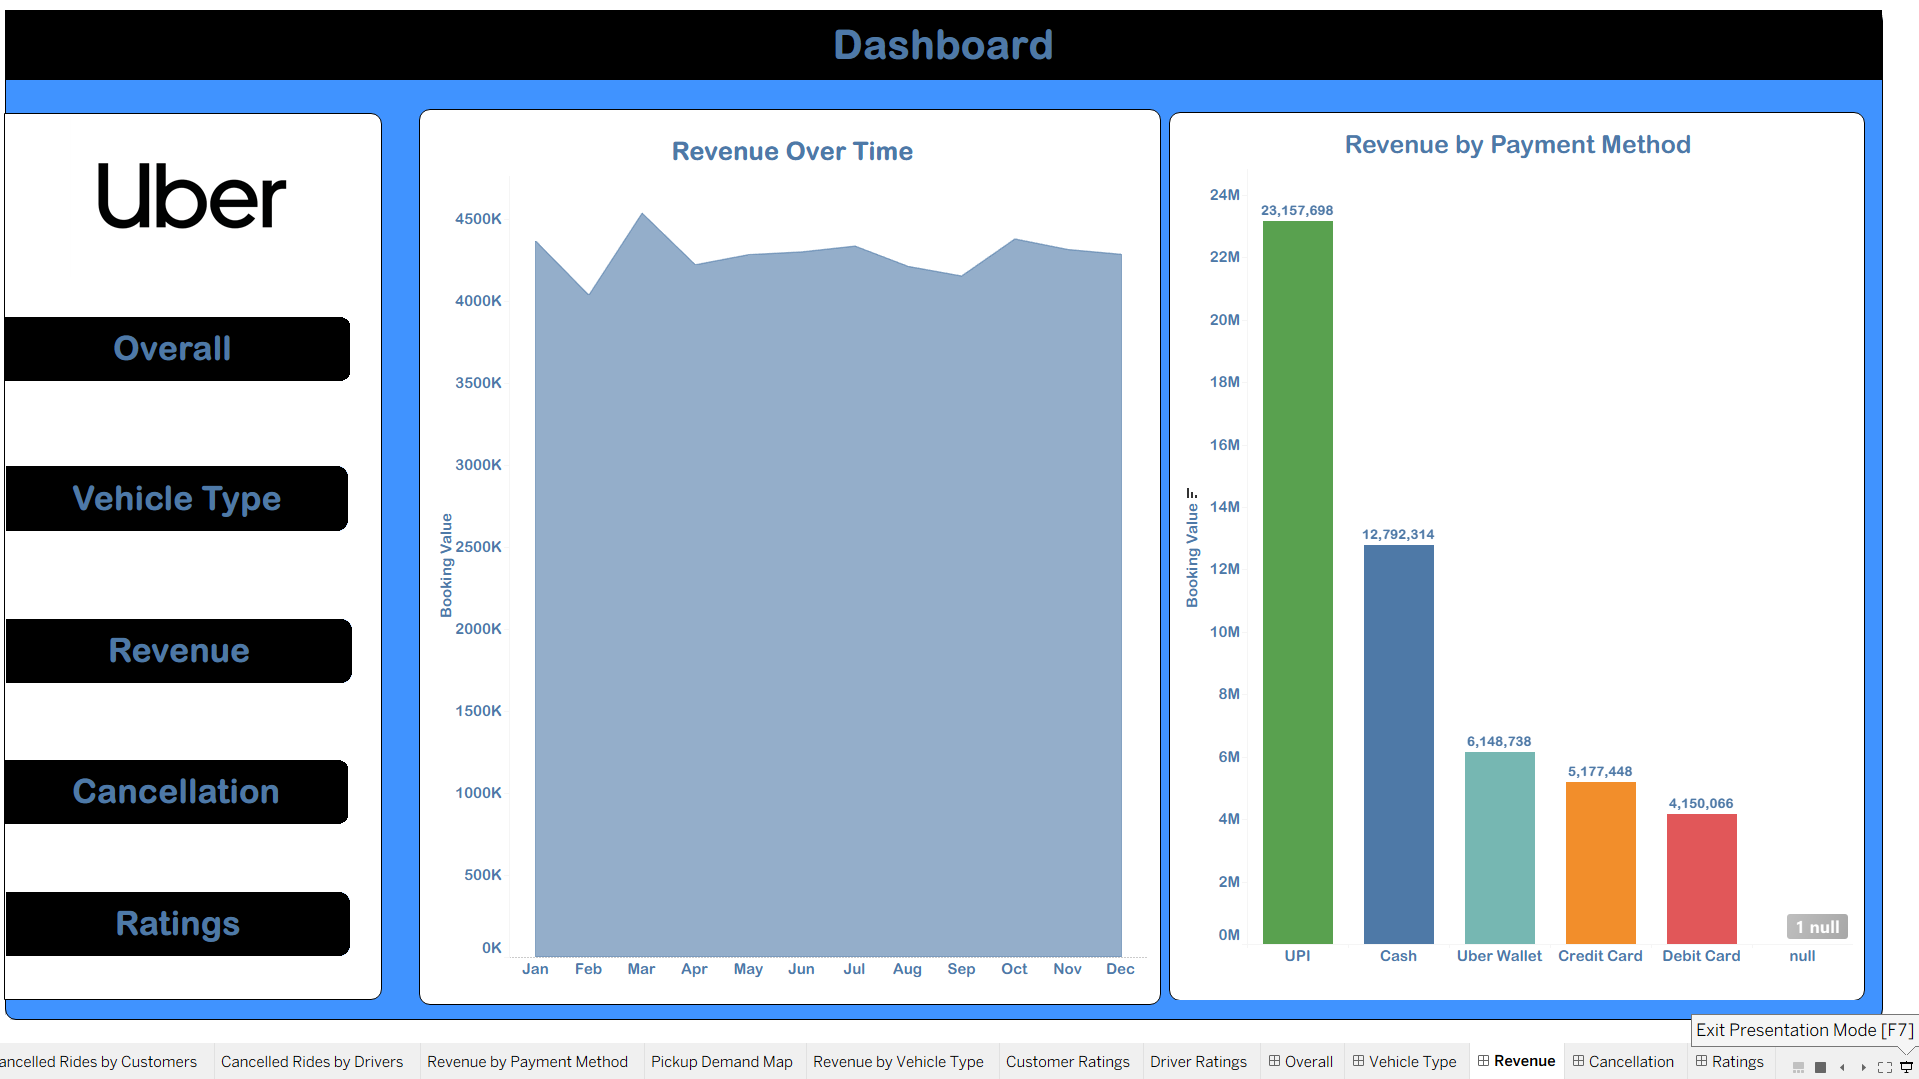

The page's visual inventory and layout, read from the dashboard file:
{"tool":"tableau","page":{"name":"Revenue","canvas":[1000,1000],"units":"permille","ordinal":3},"visuals":[{"type":"text","box":[2.4,9.4,977.7,67]},{"type":"legend","title":"Revenue by Payment Method","param":"[federated.0lg7k9d1ug5kob1dznf3a0nvakxs].[none:Payment Method:nk]","box":[4.8,9.4,990.3,172.7]},{"type":"blank","box":[218.5,104.6,386.2,859]},{"type":"blank","box":[608.9,106.9,362.7,851.9]},{"type":"blank","box":[2.3,108.1,196.8,850.8]},{"type":"image","param":"Image/download.png","box":[2.3,109.3,196.2,156.3]},{"type":"worksheet","title":"Revenue by Payment Method","mark":"Bar","rows":["Booking Value"],"cols":["Payment Method"],"box":[616.2,119.9,348.8,823.7]},{"type":"worksheet","title":"Revenue Over Time","mark":"Area","rows":["Booking Value"],"cols":["Date"],"box":[227.5,126.9,370.6,815.5]},{"type":"dashboard-object","box":[2.3,304.4,180.4,61.1]},{"type":"dashboard-object","box":[2.9,446.5,178.1,62.3]},{"type":"dashboard-object","box":[2.9,593.4,180.4,61.1]},{"type":"dashboard-object","box":[2.3,728.6,179.3,61.1]},{"type":"dashboard-object","box":[2.9,855.5,179.3,61.1]}]}

Visuals, with their boxes on the dashboard's canvas, which has no fixed pixel size, in thousandths of its width and height (x1, y1, x2, y2). These are canvas units, not pixel positions in the 1919x1079 screenshot, which may show the page scaled, cropped or inside an application window:
text: l=2, t=9, r=980, b=76
"Revenue by Payment Method" legend: l=5, t=9, r=995, b=182
blank: l=218, t=105, r=605, b=964
blank: l=609, t=107, r=972, b=959
blank: l=2, t=108, r=199, b=959
image: l=2, t=109, r=198, b=266
"Revenue by Payment Method" worksheet (Bar marks): l=616, t=120, r=965, b=944
"Revenue Over Time" worksheet (Area marks): l=228, t=127, r=598, b=942
dashboard-object: l=2, t=304, r=183, b=366
dashboard-object: l=3, t=446, r=181, b=509
dashboard-object: l=3, t=593, r=183, b=654
dashboard-object: l=2, t=729, r=182, b=790
dashboard-object: l=3, t=856, r=182, b=917
